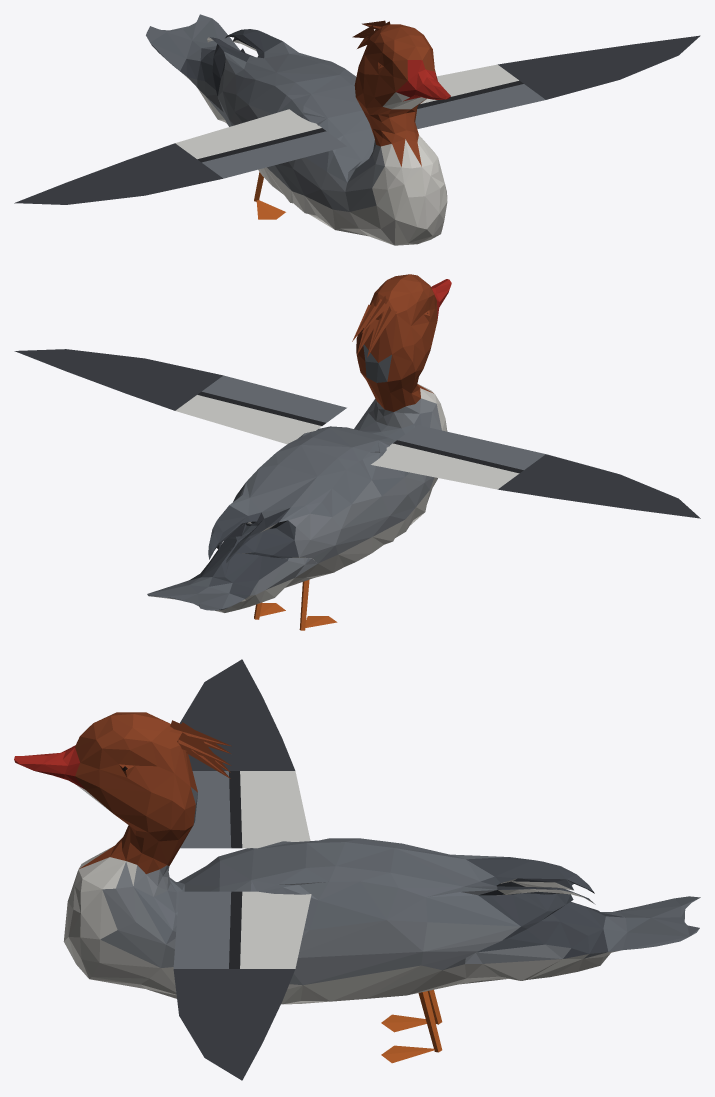
File: merganser.glb
The picture shows the model from 3 angles, top to bottom: view 1: azimuth 30°, elevation 25°; view 2: azimuth 150°, elevation 25°; view 3: azimuth 270°, elevation 25°; orthographic projection. The views are drawn at different scales.
Parts seen in each view (by area): view 1: lod0; view 2: lod0; view 3: lod0.
Boxes of the visible parts, bbox=[...] form: lod0: bbox=[14, 14, 700, 245]; lod0: bbox=[14, 274, 700, 630]; lod0: bbox=[14, 659, 700, 1080].
Size of what is drawn, in the model's own units: 0.9 by 0.3254 by 0.6196.
